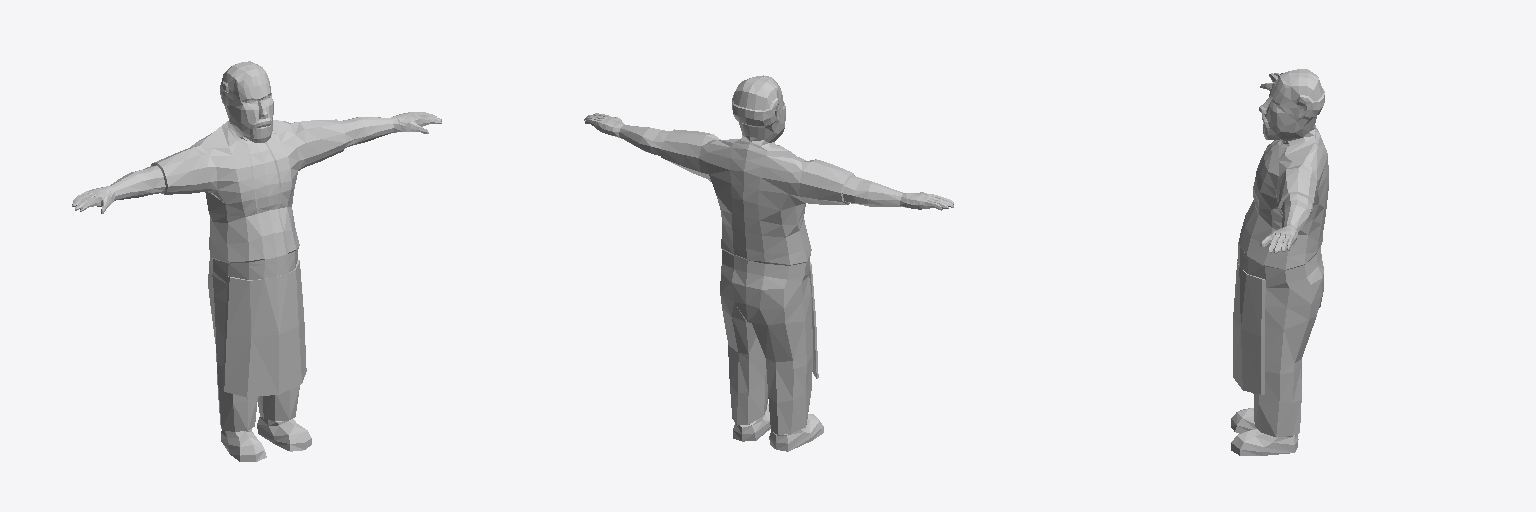
File: landlord.obj
3 renders of one model, left to right at view 1: azimuth 30°, elevation 25°; view 2: azimuth 150°, elevation 25°; view 3: azimuth 270°, elevation 25°, orthographic.
Visible parts, largest first — view 1: landlord; view 2: landlord; view 3: landlord.
Part boxes in pixels (x1,y1,x2,y2): landlord: (72,61,441,461); landlord: (584,75,953,451); landlord: (1231,69,1328,455).
Bounding box in the file's own units: 1.89 × 1.81 × 0.4412.